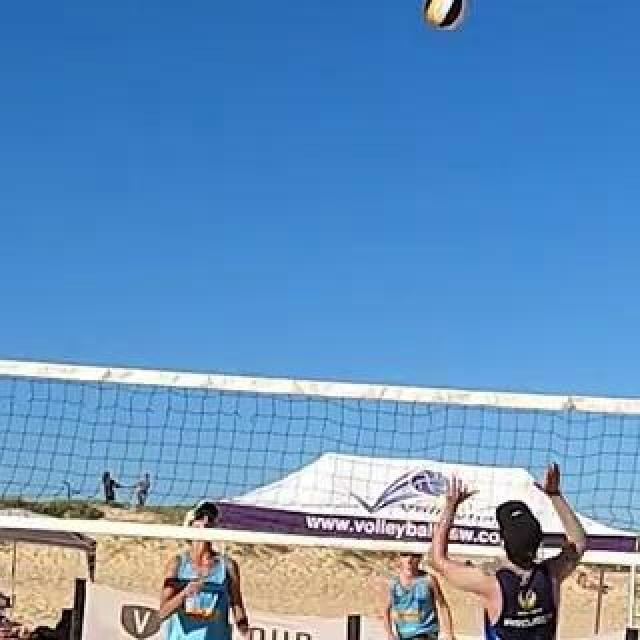volleyball: (425, 0, 463, 28)
